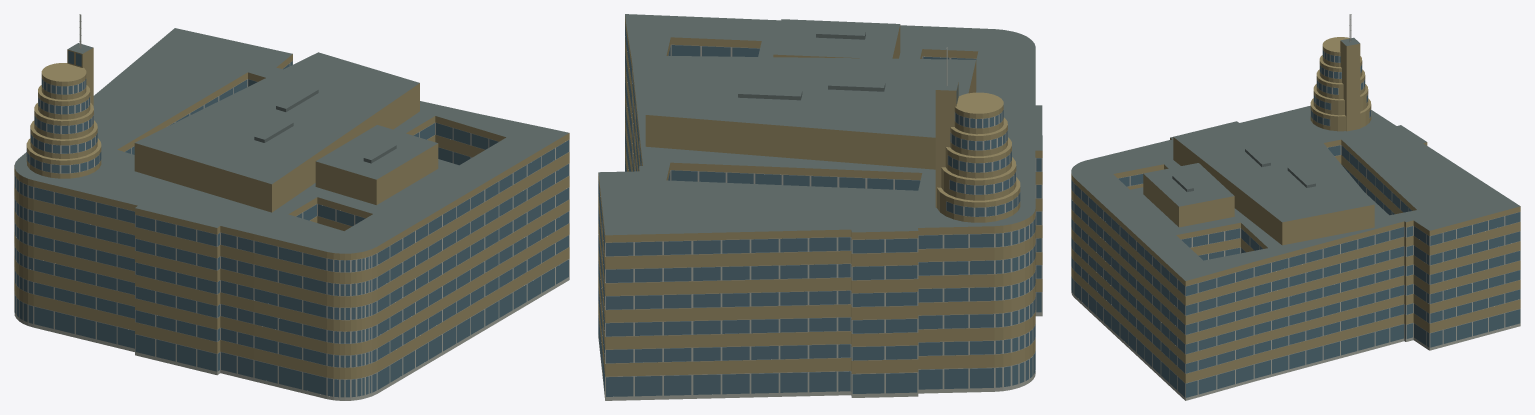
Rendered from flagey-building-far.glb.
The picture shows the model from 3 angles, left to right: view 1: azimuth 30°, elevation 25°; view 2: azimuth 150°, elevation 25°; view 3: azimuth 270°, elevation 25°; orthographic projection. The views are drawn at different scales.
Visible parts, largest first — view 1: flagey-building-0-brick, flagey-building-0-roof, flagey-building-0-glass, flagey-building-0-frame, flagey-building-0-stone; view 2: flagey-building-0-roof, flagey-building-0-brick, flagey-building-0-glass, flagey-building-0-frame, flagey-building-0-stone; view 3: flagey-building-0-brick, flagey-building-0-roof, flagey-building-0-glass, flagey-building-0-frame, flagey-building-0-stone.
Boxes of the visible parts, bbox=[...] form: flagey-building-0-brick: bbox=[14, 47, 569, 379]; flagey-building-0-roof: bbox=[14, 28, 568, 253]; flagey-building-0-glass: bbox=[15, 51, 568, 397]; flagey-building-0-frame: bbox=[14, 14, 569, 397]; flagey-building-0-stone: bbox=[14, 277, 569, 400]; flagey-building-0-roof: bbox=[598, 14, 1042, 235]; flagey-building-0-brick: bbox=[598, 16, 1042, 376]; flagey-building-0-glass: bbox=[598, 23, 1041, 396]; flagey-building-0-frame: bbox=[598, 44, 1042, 397]; flagey-building-0-stone: bbox=[598, 312, 1042, 400]; flagey-building-0-brick: bbox=[1071, 37, 1520, 383]; flagey-building-0-roof: bbox=[1071, 37, 1520, 280]; flagey-building-0-glass: bbox=[1071, 50, 1520, 397]; flagey-building-0-frame: bbox=[1072, 14, 1520, 398]; flagey-building-0-stone: bbox=[1071, 290, 1520, 400].
Bounding box in the file's own units: 84.06 × 50.51 × 88.41.
